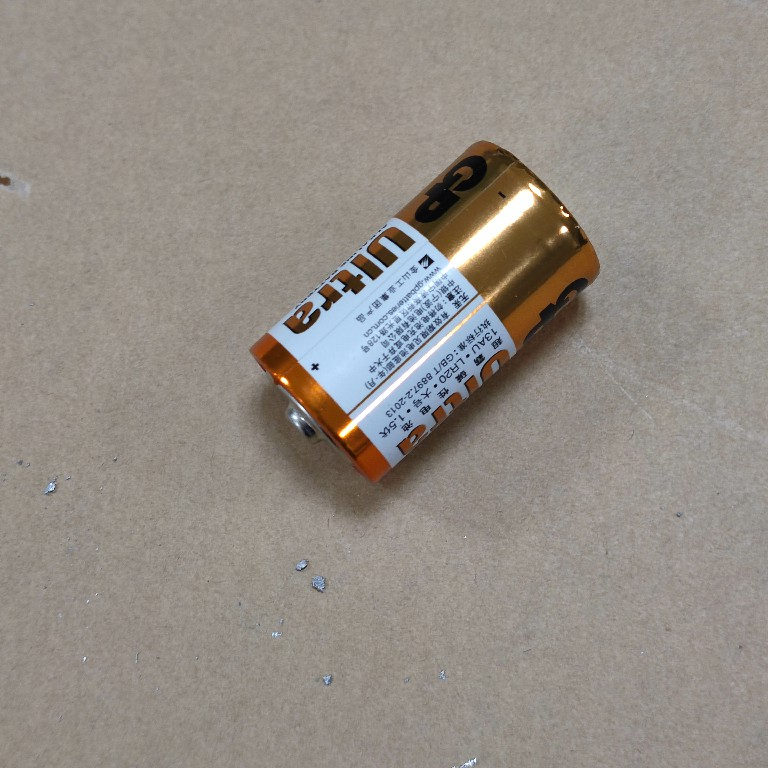charge: (247, 135, 603, 490)
